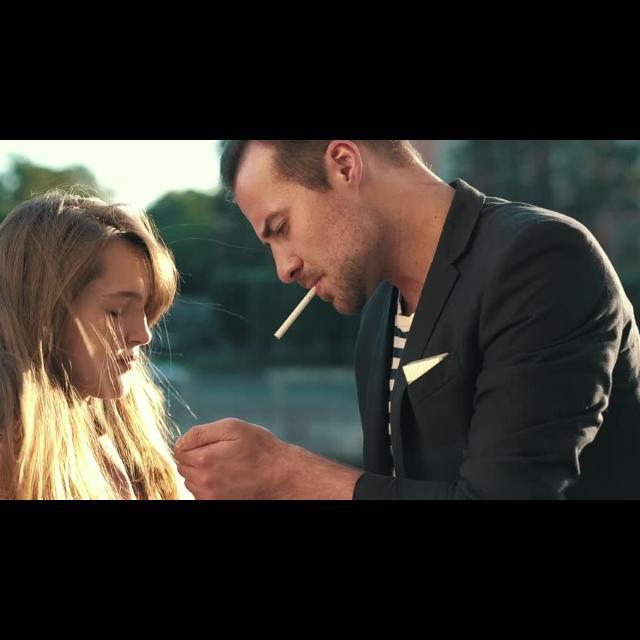rokok: (270, 281, 320, 343)
